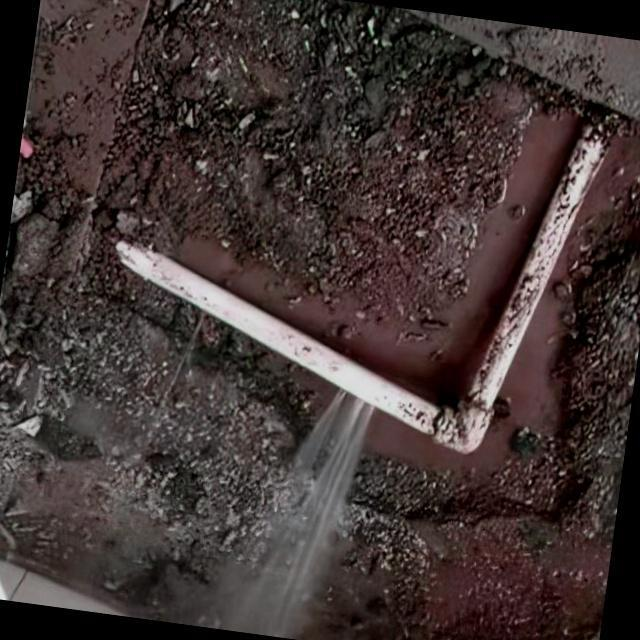pipe burst: (214, 374, 385, 636)
water accumulation: (168, 98, 639, 479)
